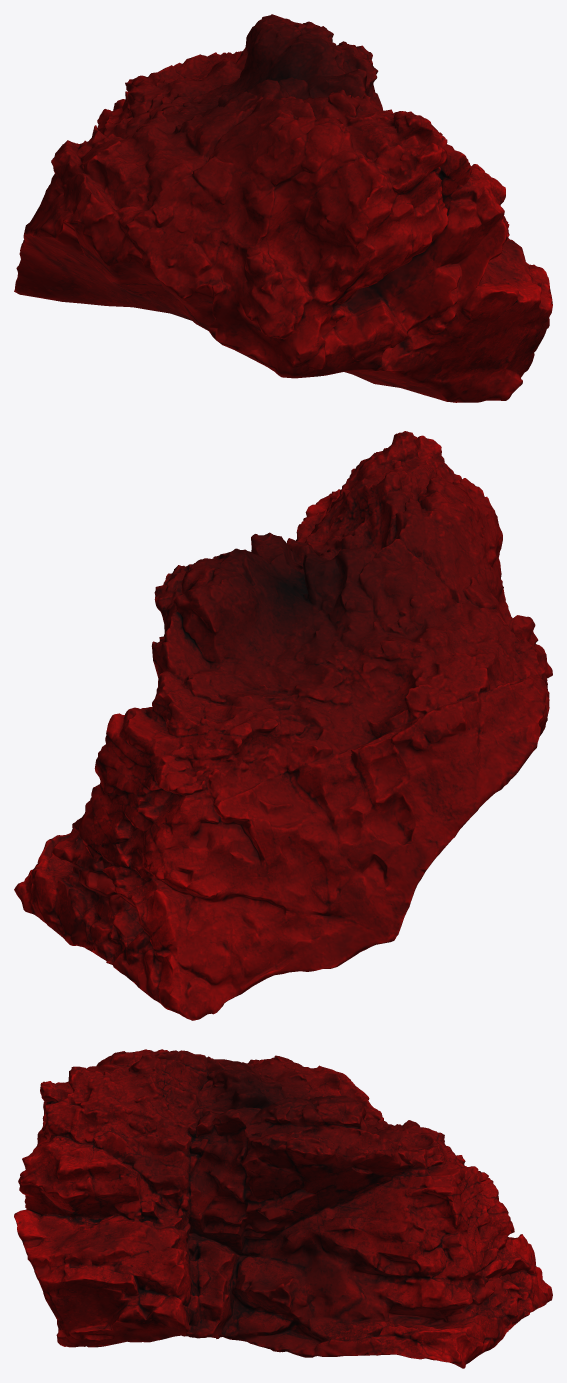
Rendered from boulder_01.gltf.
The picture shows the model from 3 angles, top to bottom: view 1: azimuth 30°, elevation 25°; view 2: azimuth 150°, elevation 25°; view 3: azimuth 270°, elevation 25°; orthographic projection. The views are drawn at different scales.
Visible parts, largest first — view 1: boulder_01; view 2: boulder_01; view 3: boulder_01.
Boxes of the visible parts, x1=… form: boulder_01: x1=14, y1=14, x2=552, y2=402; boulder_01: x1=14, y1=431, x2=552, y2=1020; boulder_01: x1=14, y1=1049, x2=552, y2=1368.
Size of the model in its own units: 1.27 by 1 by 1.83.
1 material, 1 textured.
